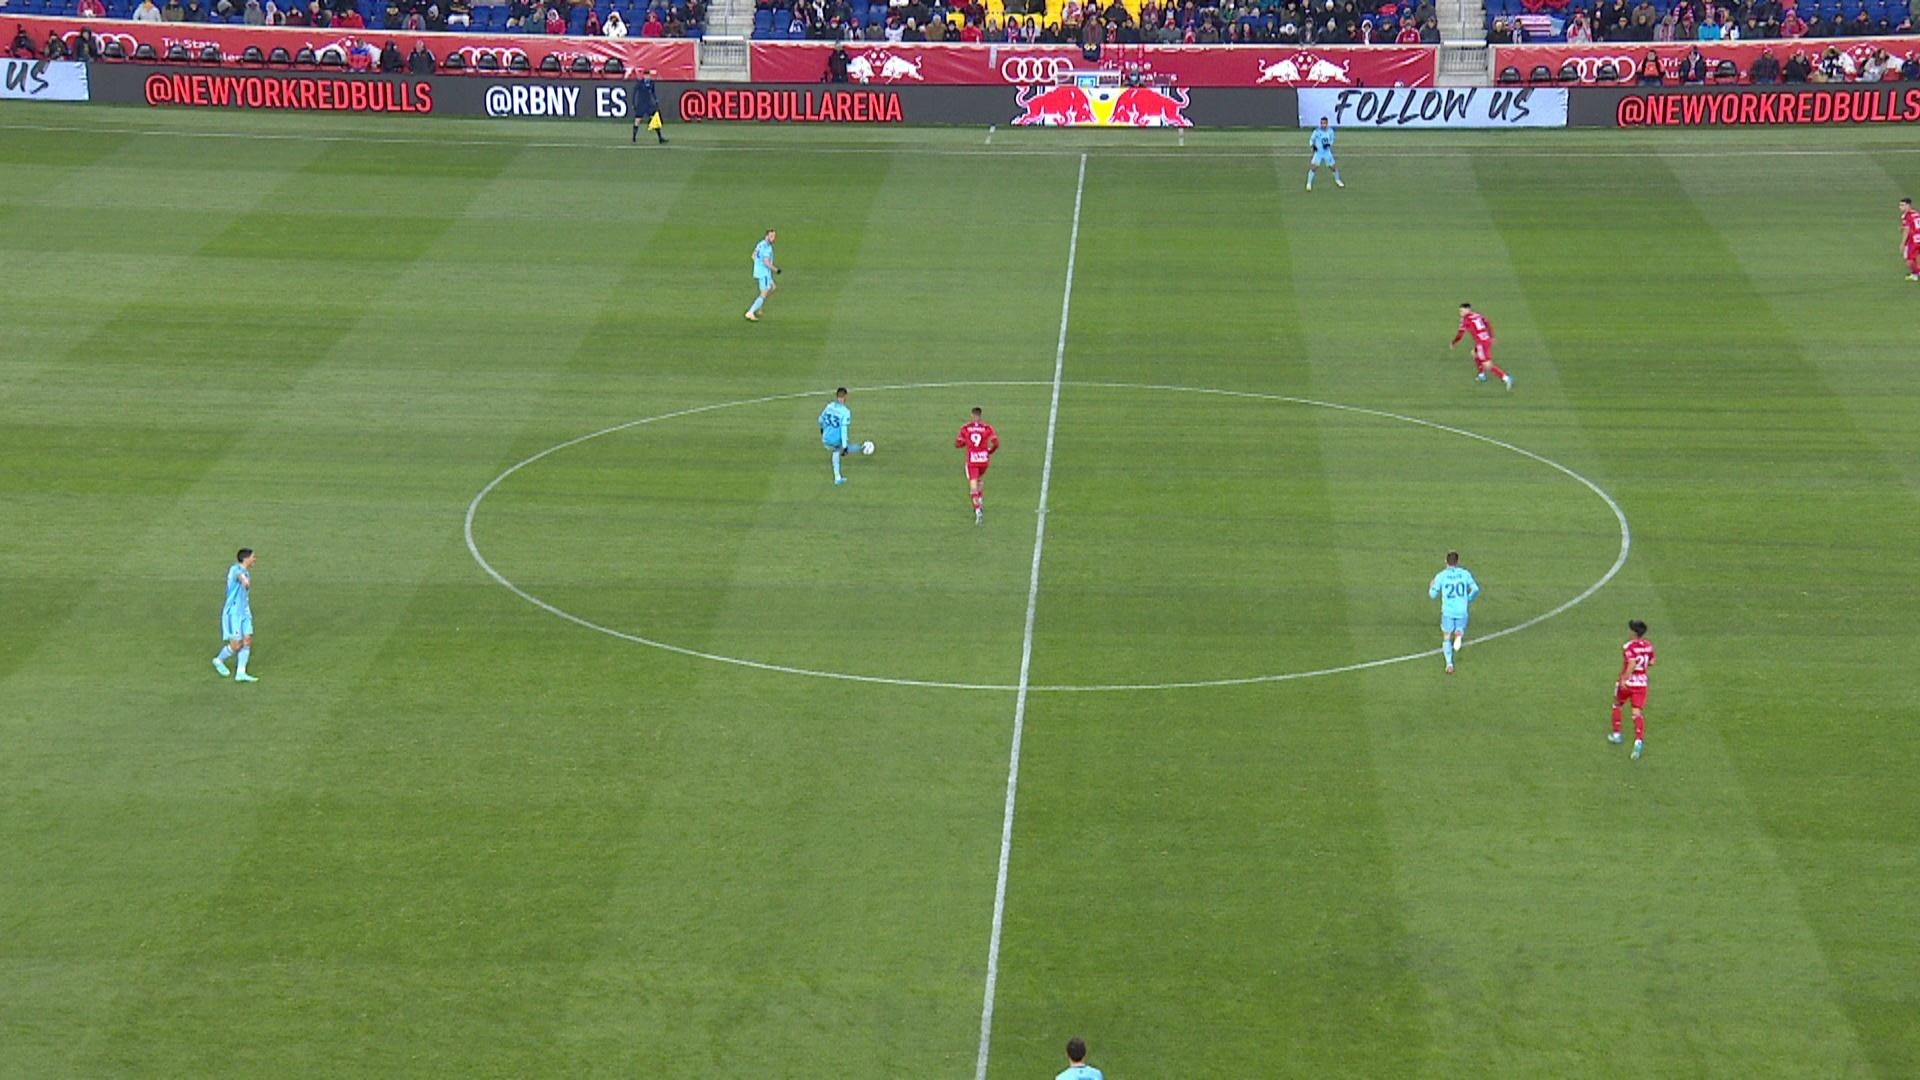football: (862, 440, 876, 456)
